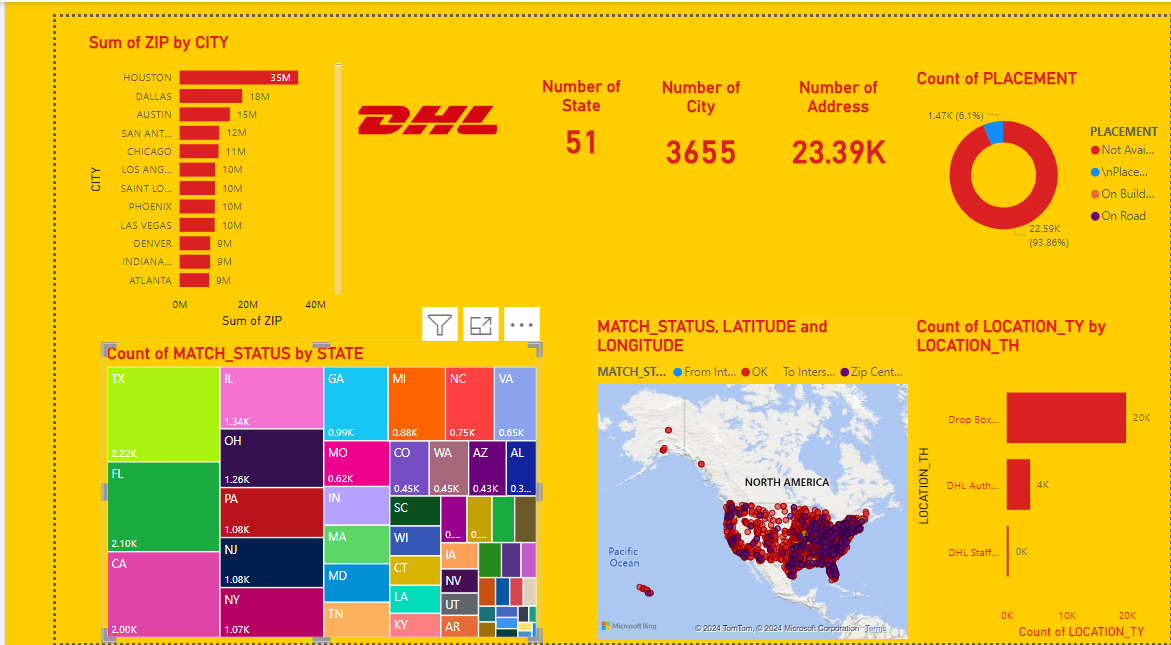

What the dashboard file says about the page in this screenshot:
{"tool":"powerbi","page":{"name":"DHL USA","canvas":[1280,720],"ordinal":0},"visuals":[{"type":"image","box":[322.5,49.3,209.9,111.3],"z":0},{"type":"card","title":"Number of State","fields":{"Values":["Count(DHL data set.STATE)"]},"box":[532.4,69,142.3,101.4],"z":1000},{"type":"card","title":"Number of City","fields":{"Values":["Count(DHL data set.CITY)"]},"box":[675.9,70.7,131,119],"z":2000},{"type":"card","title":"Number of Address","fields":{"Values":["Count(DHL data set.ADDRESS)"]},"box":[832.8,70.7,132.8,119],"z":3000},{"type":"barChart","fields":{"Y":["Sum(DHL data set.ZIP)"],"Category":["DHL data set.CITY"]},"box":[32.4,18.3,300,343.7],"z":4000},{"type":"treemap","fields":{"Group":["DHL data set.STATE"],"Values":["CountNonNull(DHL data set.MATCH_STATUS)"]},"box":[53.4,375.9,503.4,343.1],"z":5000},{"type":"map","fields":{"X":["DHL data set.LONGITUDE"],"Y":["DHL data set.LATITUDE"],"Series":["DHL data set.MATCH_STATUS"]},"box":[617.2,344.8,367.2,375.9],"z":6000},{"type":"donutChart","title":"Count of PLACEMENT ","fields":{"Y":["CountNonNull(DHL data set.PLACEMENT)"],"Category":["DHL data set.PLACEMENT"]},"box":[984.5,60.3,294.8,222.4],"z":7000},{"type":"barChart","fields":{"Category":["DHL data set.LOCATION_TH"],"Y":["CountNonNull(DHL data set.LOCATION_TY)"]},"box":[984,345,295,375],"z":8000}]}

Visuals, with their boxes in screenshot pixels (x1, y1, x2, y2), scaled from the page's 1280x720 canvas onto the 1171x645 screenshot:
image: rect(295, 44, 487, 144)
"Number of State" card: rect(487, 62, 617, 153)
"Number of City" card: rect(618, 63, 738, 170)
"Number of Address" card: rect(762, 63, 883, 170)
barChart - Sum(DHL data set.ZIP) x DHL data set.CITY: rect(30, 16, 304, 324)
treemap - DHL data set.STATE x CountNonNull(DHL data set.MATCH_STATUS): rect(49, 337, 509, 644)
map - DHL data set.LONGITUDE x DHL data set.LATITUDE: rect(565, 309, 901, 644)
"Count of PLACEMENT " donutChart: rect(901, 54, 1170, 253)
barChart - DHL data set.LOCATION_TH x CountNonNull(DHL data set.LOCATION_TY): rect(900, 309, 1170, 644)
